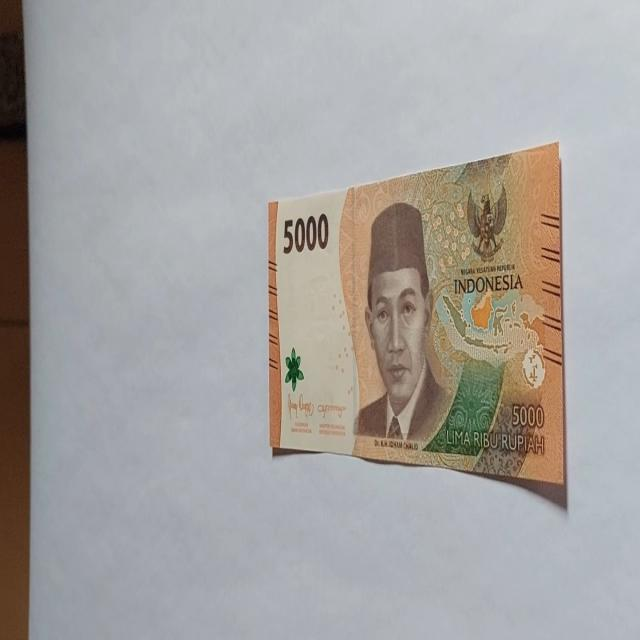lima ribu rupiah: (267, 141, 566, 507), (352, 200, 452, 446)
